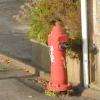a fire hydrant: (43, 20, 75, 92)
